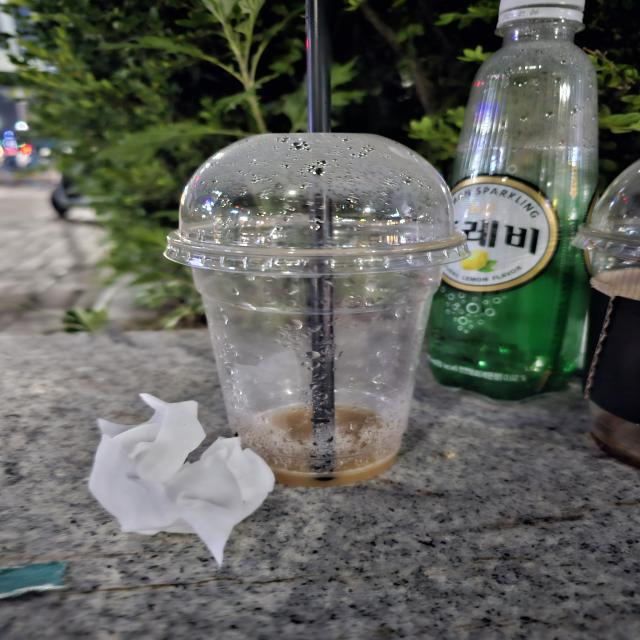cup: (164, 128, 474, 492)
